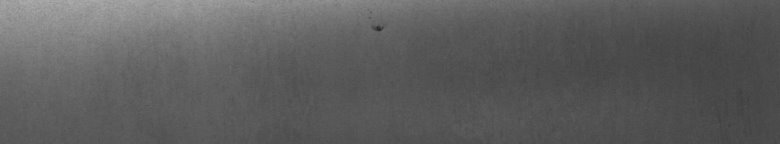fi: (369, 17, 386, 38)
